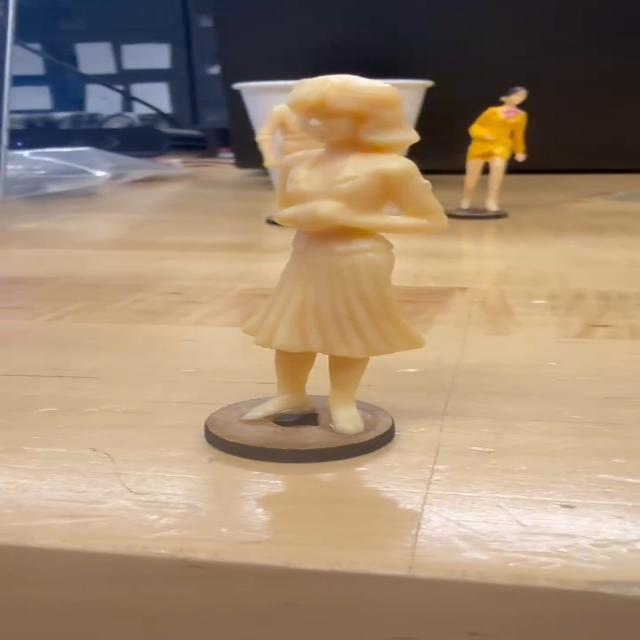Unauthorized: (240, 61, 447, 472)
